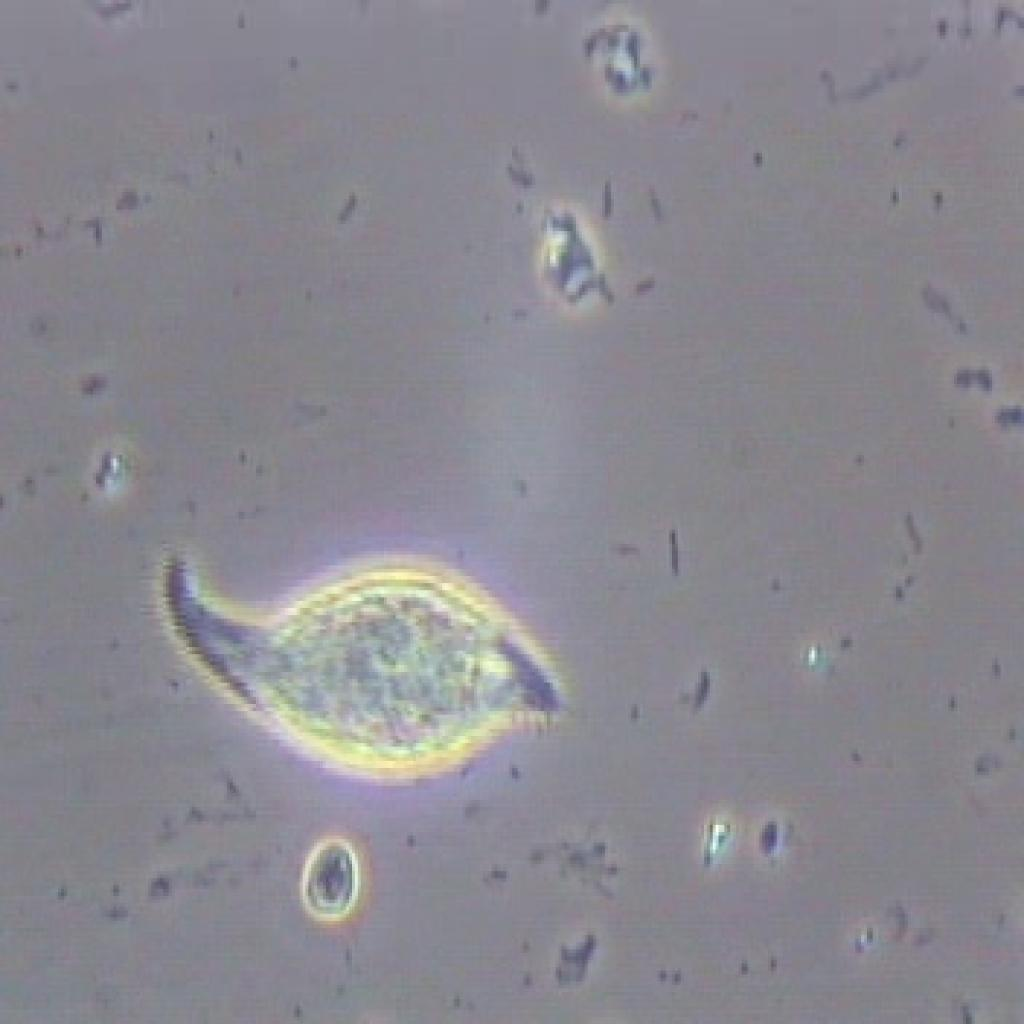Pristina: (135, 516, 592, 804)
